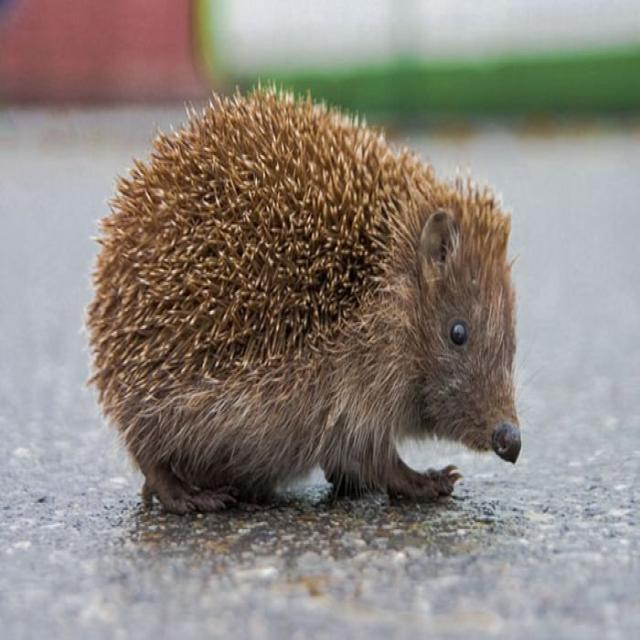Hedgehog: (92, 81, 526, 533)
